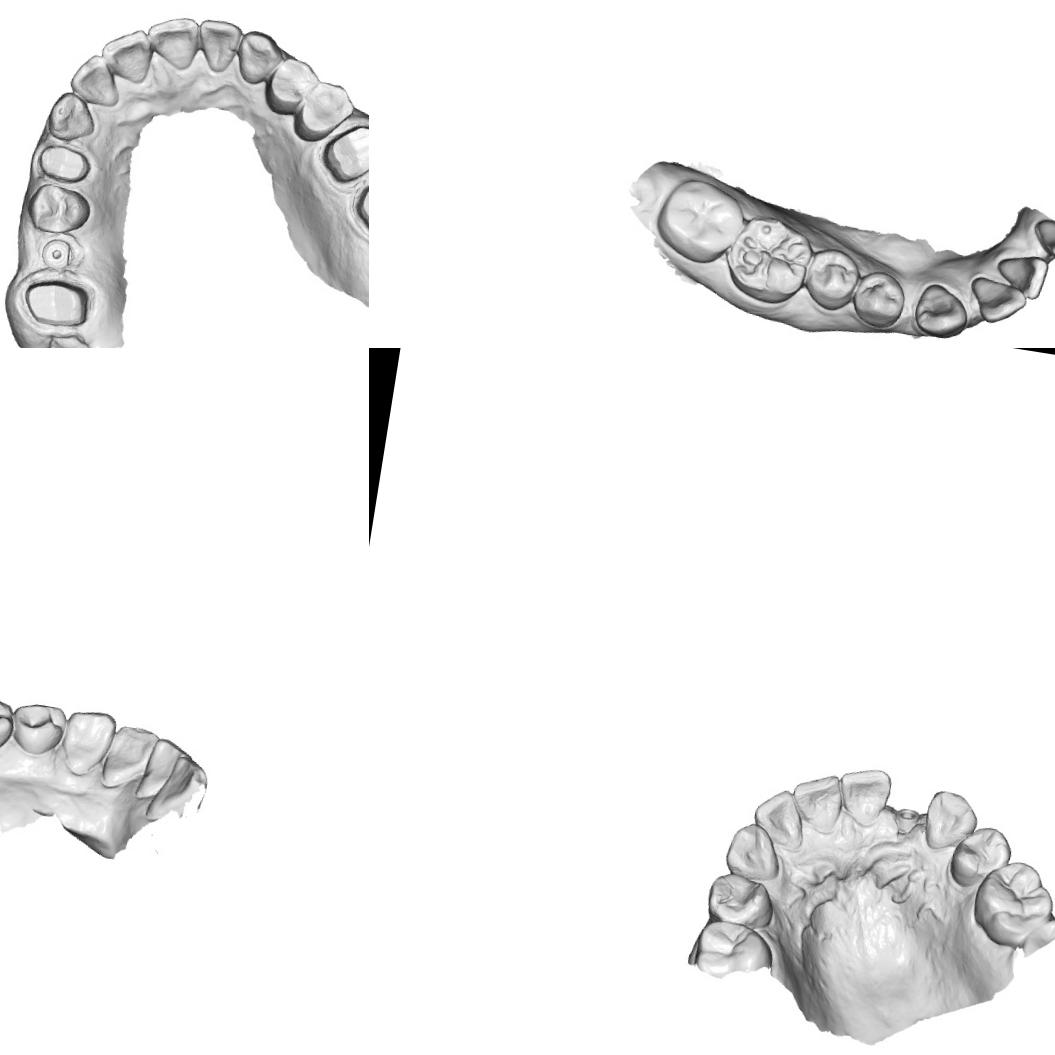canine: (58, 705, 116, 779), (920, 788, 982, 856), (722, 820, 786, 884), (910, 279, 972, 343), (45, 87, 100, 146), (233, 27, 286, 88)
crown: (7, 268, 98, 342), (316, 118, 369, 190), (34, 141, 95, 186), (350, 162, 369, 241)
implant: (38, 235, 76, 273), (892, 806, 922, 836)
incisor: (142, 751, 212, 835), (98, 717, 160, 788), (833, 763, 894, 830), (749, 784, 809, 850), (141, 10, 203, 73), (787, 769, 846, 835), (97, 22, 157, 86), (966, 270, 1032, 328), (133, 734, 189, 802), (65, 48, 126, 109), (992, 249, 1050, 303), (192, 16, 244, 76), (1025, 211, 1055, 264)
molar: (648, 173, 746, 269), (721, 210, 817, 308), (967, 855, 1055, 954), (692, 916, 778, 984)
premolar: (290, 76, 358, 150), (946, 822, 1015, 894), (802, 243, 865, 315), (704, 870, 778, 931), (24, 179, 95, 239), (260, 52, 322, 120), (7, 694, 68, 760), (848, 267, 908, 332), (0, 690, 15, 759)
